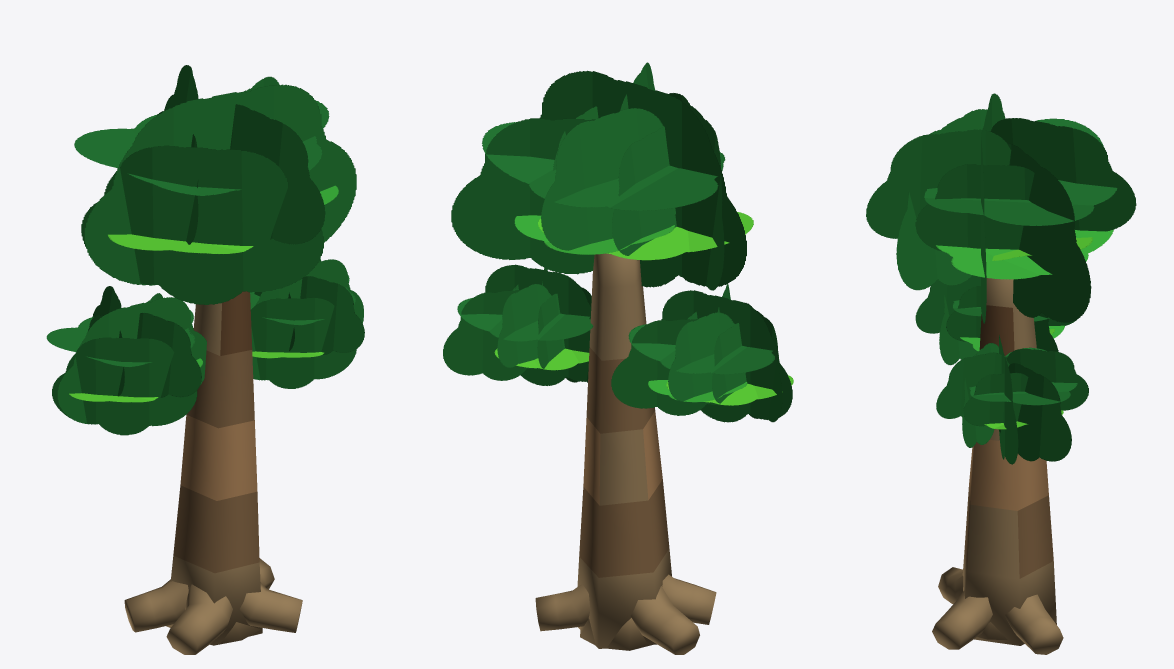
File: TREE_EUCALYPTUS_001_v018_LOD_MAP.glb
3 renders of one model, left to right at view 1: azimuth 30°, elevation 25°; view 2: azimuth 150°, elevation 25°; view 3: azimuth 270°, elevation 25°, orthographic. The views are drawn at different scales.
Visible parts, largest first — view 1: TREE_EUCALYPTUS_001_MAP_AUTHORED_FOLIAGE_ISLANDS, TREE_EUCALYPTUS_001_MAP_MAIN_TRUNK, TREE_EUCALYPTUS_001_MAP_ROOT_FRONT_LEFT, TREE_EUCALYPTUS_001_MAP_ROOT_LONG_LEFT, TREE_EUCALYPTUS_001_MAP_ROOT_FRONT_RIGHT; view 2: TREE_EUCALYPTUS_001_MAP_AUTHORED_FOLIAGE_ISLANDS, TREE_EUCALYPTUS_001_MAP_MAIN_TRUNK, TREE_EUCALYPTUS_001_MAP_ROOT_LONG_LEFT, TREE_EUCALYPTUS_001_MAP_ROOT_RIGHT_SIDE, TREE_EUCALYPTUS_001_MAP_ROOT_FRONT_LEFT, TREE_EUCALYPTUS_001_MAP_SCULPTED_ROOT_COLLAR; view 3: TREE_EUCALYPTUS_001_MAP_AUTHORED_FOLIAGE_ISLANDS, TREE_EUCALYPTUS_001_MAP_MAIN_TRUNK, TREE_EUCALYPTUS_001_MAP_ROOT_FRONT_RIGHT, TREE_EUCALYPTUS_001_MAP_ROOT_RIGHT_SIDE, TREE_EUCALYPTUS_001_MAP_ROOT_FRONT_LEFT.
Part boxes in pixels (x1,y1,x2,y2): TREE_EUCALYPTUS_001_MAP_AUTHORED_FOLIAGE_ISLANDS: [46, 65, 364, 435]; TREE_EUCALYPTUS_001_MAP_MAIN_TRUNK: [166, 291, 262, 645]; TREE_EUCALYPTUS_001_MAP_ROOT_FRONT_LEFT: [166, 584, 232, 654]; TREE_EUCALYPTUS_001_MAP_ROOT_LONG_LEFT: [124, 579, 188, 632]; TREE_EUCALYPTUS_001_MAP_ROOT_FRONT_RIGHT: [239, 582, 302, 632]; TREE_EUCALYPTUS_001_MAP_AUTHORED_FOLIAGE_ISLANDS: [443, 62, 793, 422]; TREE_EUCALYPTUS_001_MAP_MAIN_TRUNK: [577, 253, 671, 648]; TREE_EUCALYPTUS_001_MAP_ROOT_LONG_LEFT: [630, 586, 699, 654]; TREE_EUCALYPTUS_001_MAP_ROOT_RIGHT_SIDE: [535, 584, 590, 631]; TREE_EUCALYPTUS_001_MAP_ROOT_FRONT_LEFT: [662, 574, 716, 624]; TREE_EUCALYPTUS_001_MAP_SCULPTED_ROOT_COLLAR: [580, 618, 651, 650]; TREE_EUCALYPTUS_001_MAP_AUTHORED_FOLIAGE_ISLANDS: [866, 93, 1136, 464]; TREE_EUCALYPTUS_001_MAP_MAIN_TRUNK: [962, 278, 1056, 645]; TREE_EUCALYPTUS_001_MAP_ROOT_FRONT_RIGHT: [932, 590, 992, 649]; TREE_EUCALYPTUS_001_MAP_ROOT_RIGHT_SIDE: [1004, 594, 1063, 654]; TREE_EUCALYPTUS_001_MAP_ROOT_FRONT_LEFT: [938, 567, 963, 604].
Bounding box in the file's own units: 4.08 × 6.57 × 3.3.
5 materials, 1 textured.
